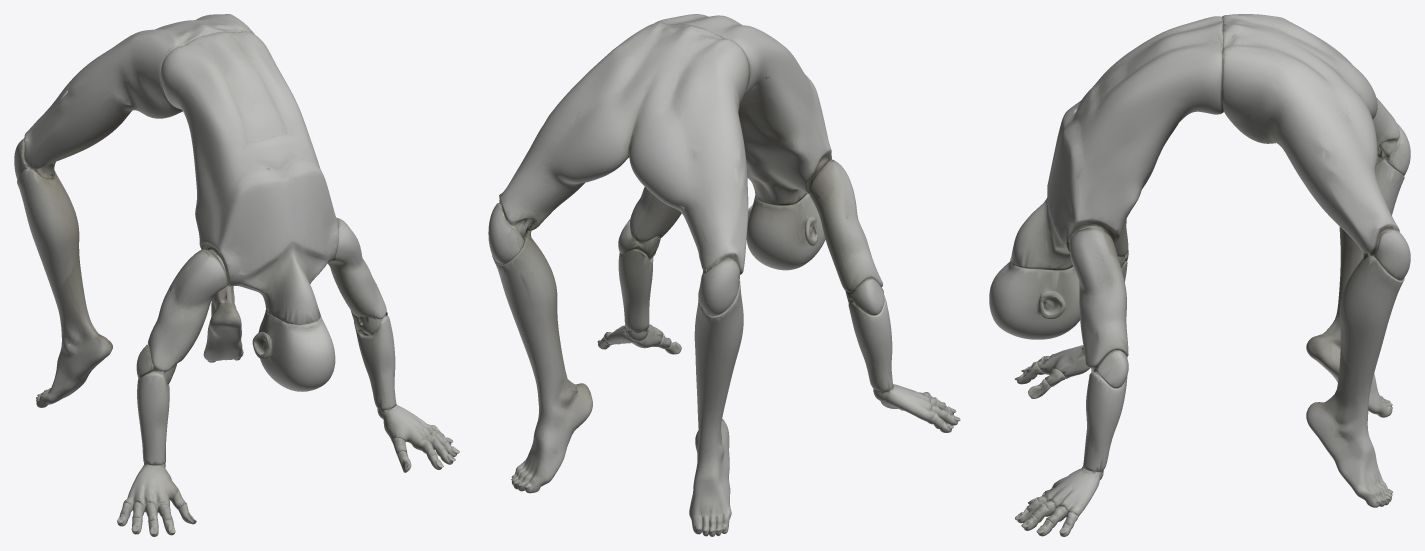
The picture shows the model from 3 angles, left to right: view 1: azimuth 30°, elevation 25°; view 2: azimuth 150°, elevation 25°; view 3: azimuth 270°, elevation 25°; orthographic projection. The views are drawn at different scales.
Visible parts, largest first — view 1: node_0; view 2: node_0; view 3: node_0.
Boxes of the visible parts, x1,y1,x2,y2 form: node_0: [14, 14, 459, 536]; node_0: [488, 14, 960, 536]; node_0: [989, 14, 1410, 536].
Size of the model in its own units: 0.7165 by 0.8303 by 0.734.
1 material, 1 textured.
